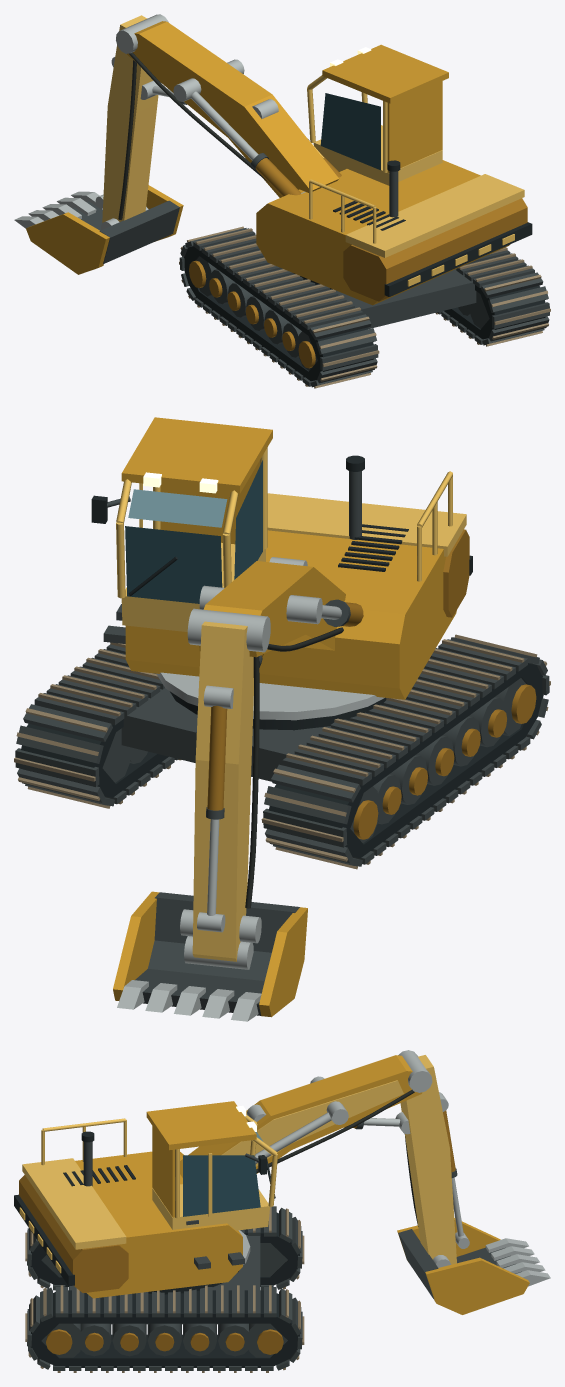
Rendered from excavator.glb.
3 renders of one model, top to bottom at view 1: azimuth 30°, elevation 25°; view 2: azimuth 150°, elevation 25°; view 3: azimuth 270°, elevation 25°, orthographic. The views are drawn at different scales.
Parts seen in each view (by area): view 1: excavator-superstructure, track-shoes, formed-boom, crawler-undercarriage, formed-stick, curved-bucket, hydraulic-cylinder (×2), engine-rails-and-cab, bucket-teeth; view 2: excavator-superstructure, track-shoes, crawler-undercarriage, formed-stick, curved-bucket, formed-boom, engine-rails-and-cab, hydraulic-cylinder (×2), bucket-teeth; view 3: excavator-superstructure, crawler-undercarriage, track-shoes, formed-boom, formed-stick, curved-bucket, engine-rails-and-cab, hydraulic-cylinder (×3), bucket-teeth.
Part boxes in pixels (x1,y1,x2,y2): excavator-superstructure: (256,44,532,305); track-shoes: (179,226,550,388); formed-boom: (116,14,338,197); crawler-undercarriage: (183,246,545,381); formed-stick: (102,15,158,222); curved-bucket: (26,185,183,274); hydraulic-cylinder (×2): (140,78,300,196); engine-rails-and-cab: (309,47,514,286); bucket-teeth: (14,191,102,228); excavator-superstructure: (116,417,472,699); track-shoes: (14,634,550,869); crawler-undercarriage: (21,663,543,858); formed-stick: (184,621,259,969); curved-bucket: (113,891,307,1017); formed-boom: (187,561,345,657); engine-rails-and-cab: (91,455,452,643); hydraulic-cylinder (×2): (197,595,363,932); bucket-teeth: (117,980,261,1021); excavator-superstructure: (14,1101,277,1298); crawler-undercarriage: (30,1212,299,1367); track-shoes: (25,1206,304,1372); formed-boom: (180,1050,432,1177); formed-stick: (400,1055,456,1264); curved-bucket: (397,1218,529,1314); engine-rails-and-cab: (19,1105,275,1273); hydraulic-cylinder (×3): (247,1092,469,1248); bucket-teeth: (485,1238,550,1286).
Size of the model in its own units: 6.25 by 5.25 by 10.68.
